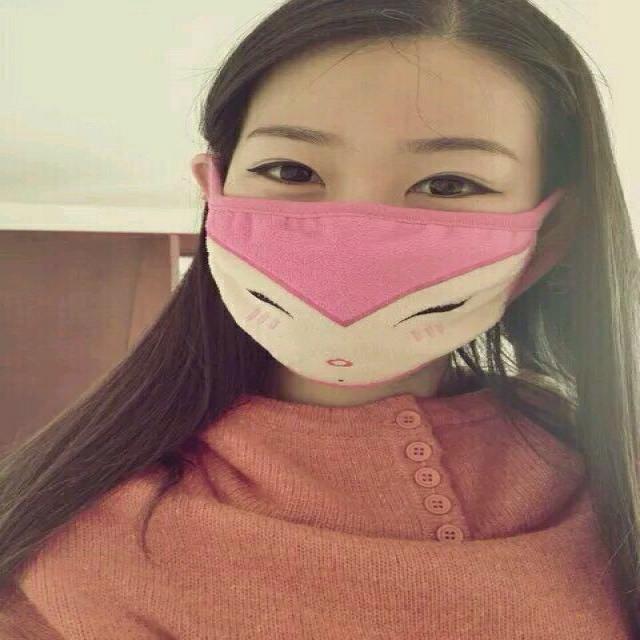mask: (205, 35, 534, 377)
